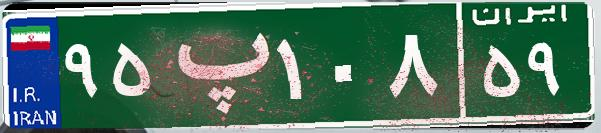0: (330, 28, 385, 110)
1: (273, 28, 330, 110)
5: (475, 38, 525, 113), (110, 28, 158, 105)
8: (385, 28, 445, 110)
9: (57, 26, 110, 107), (525, 38, 570, 115)
پ: (158, 15, 273, 115)
